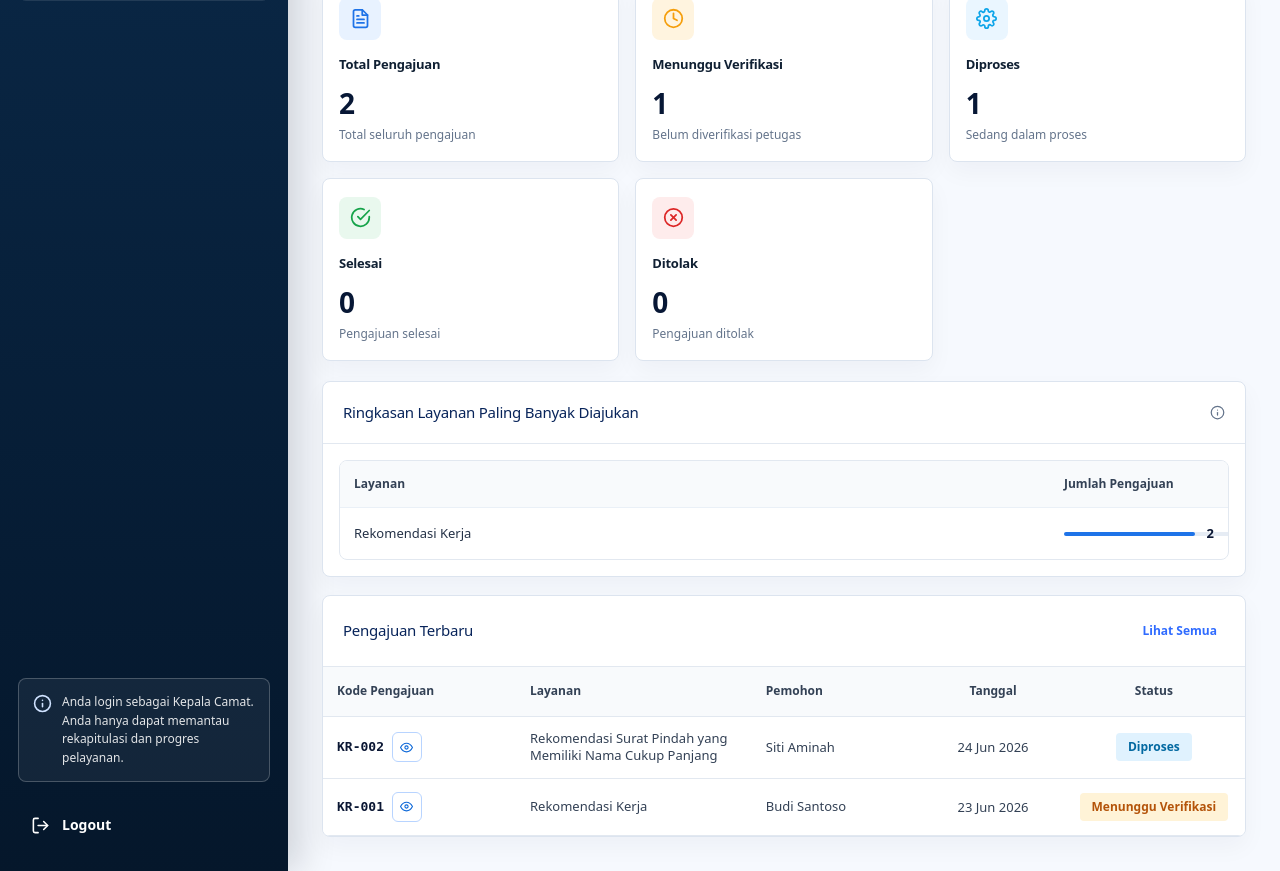
Test: DashboardKepalaCamat › membuka detail read-only dari kode pengajuan
(page scrolled)
Step 1. Click the button named "lihat detail pengajuan" next to "KR-001" → (407, 807), box [392,792,422,822]
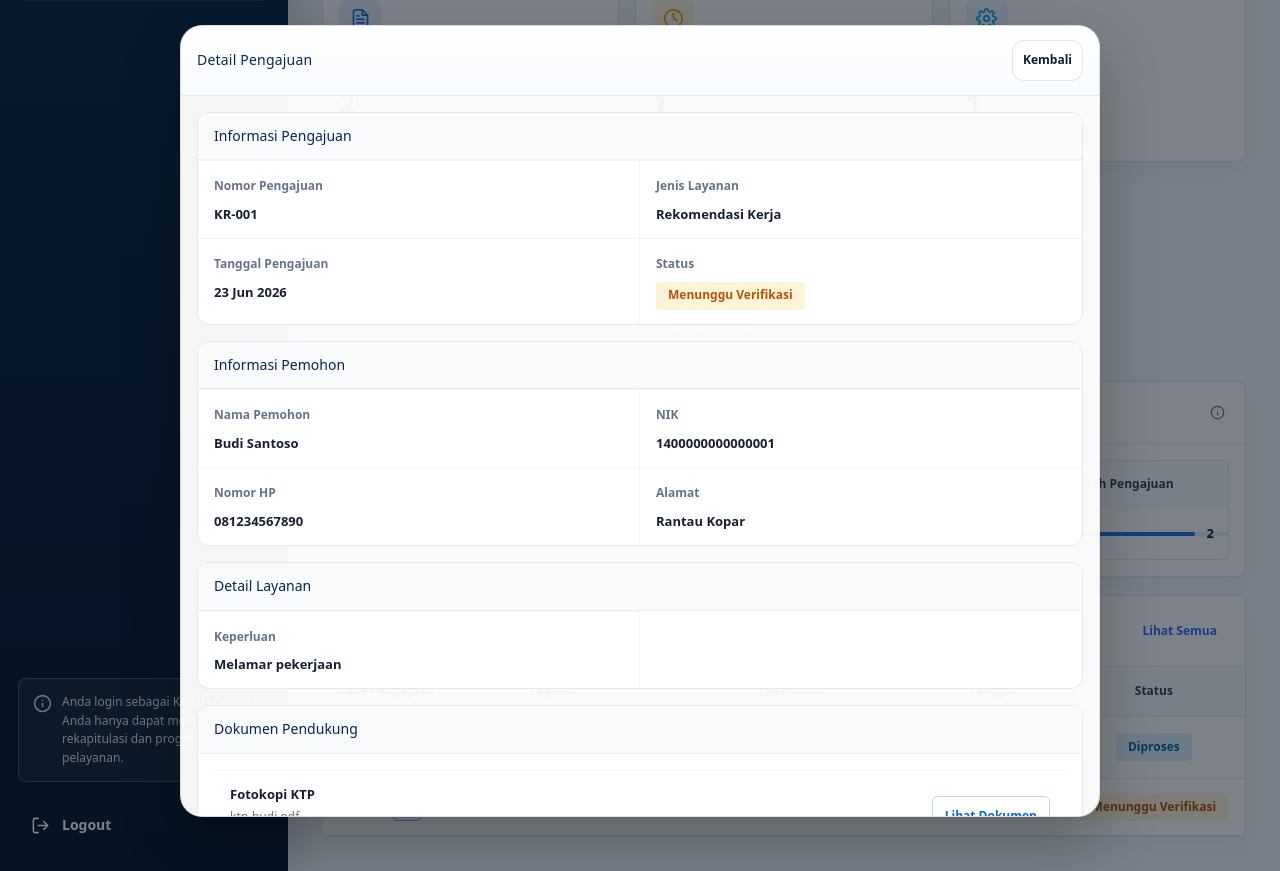
Check: the dialog "Detail Pengajuan" is shown
